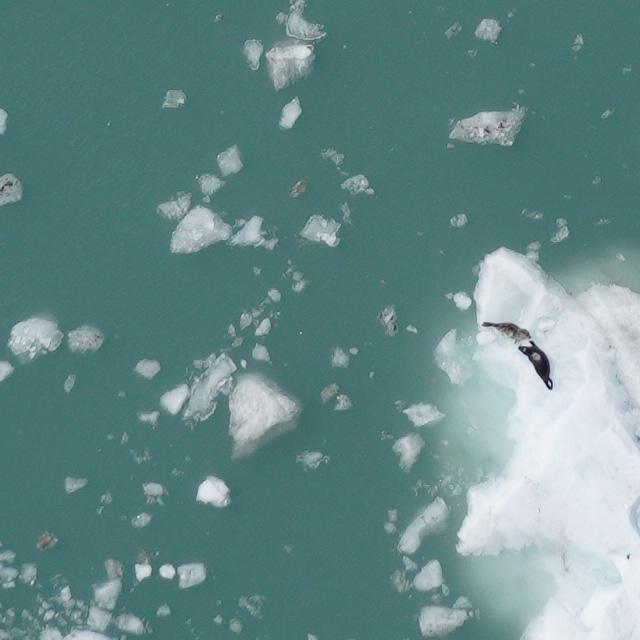seal: (517, 337, 565, 391), (482, 311, 532, 352)
